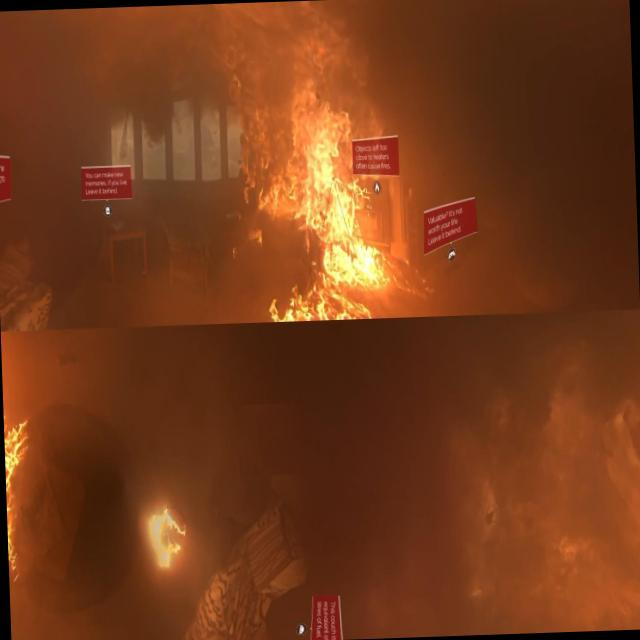fire: (222, 1, 396, 320)
